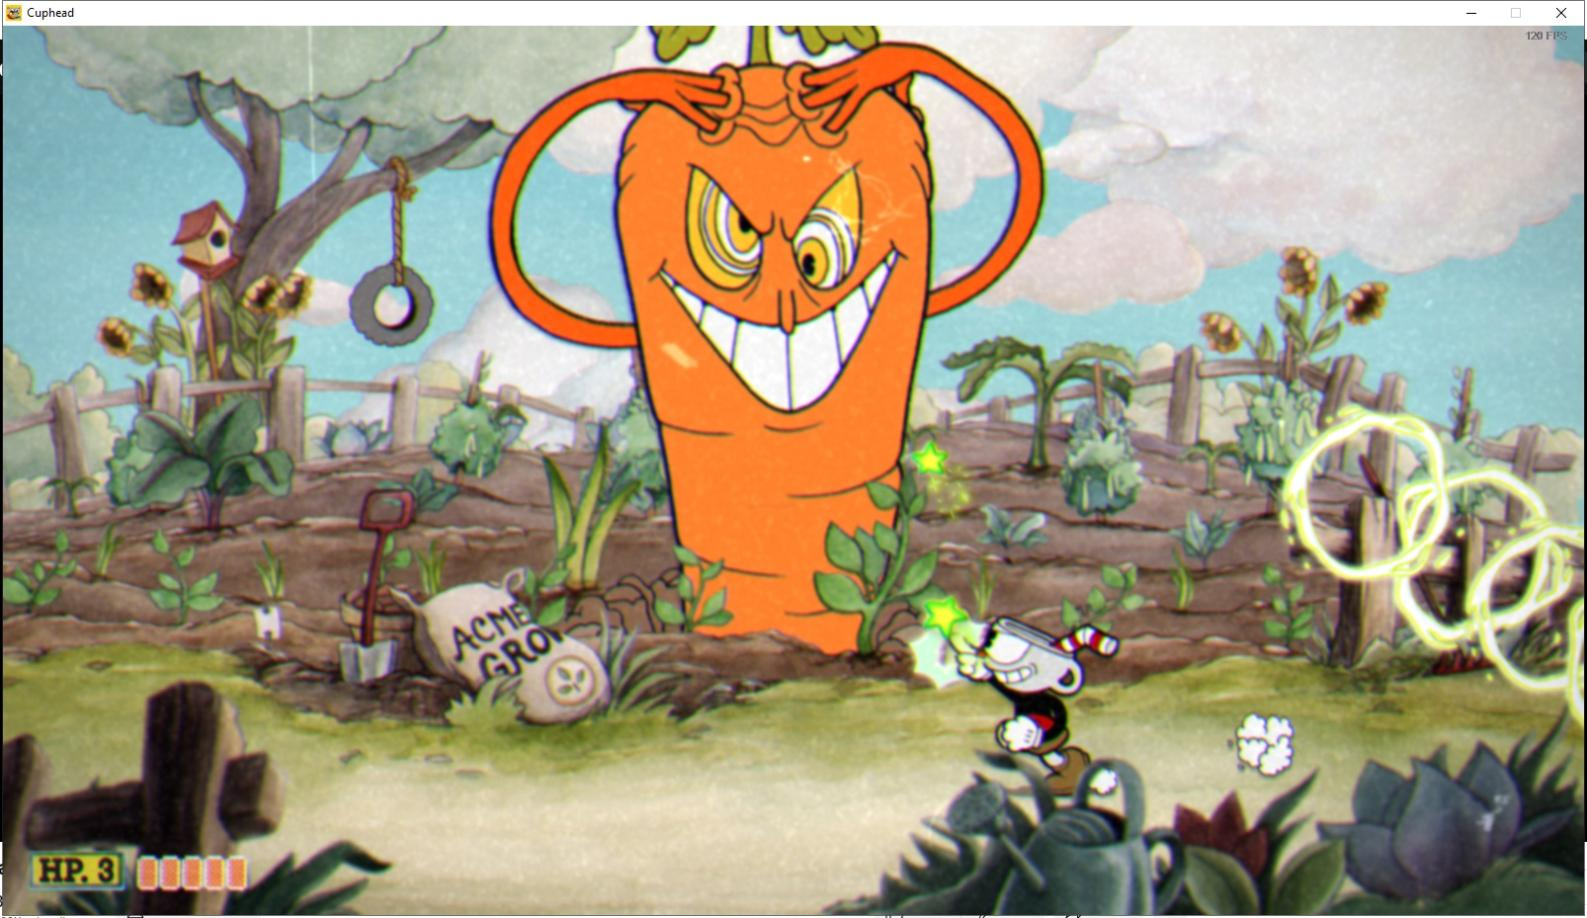hp3: (93, 853, 122, 889)
player: (935, 590, 1130, 799)
ring: (1276, 396, 1458, 584), (1380, 460, 1562, 647), (1462, 519, 1587, 702), (1546, 587, 1587, 732)
